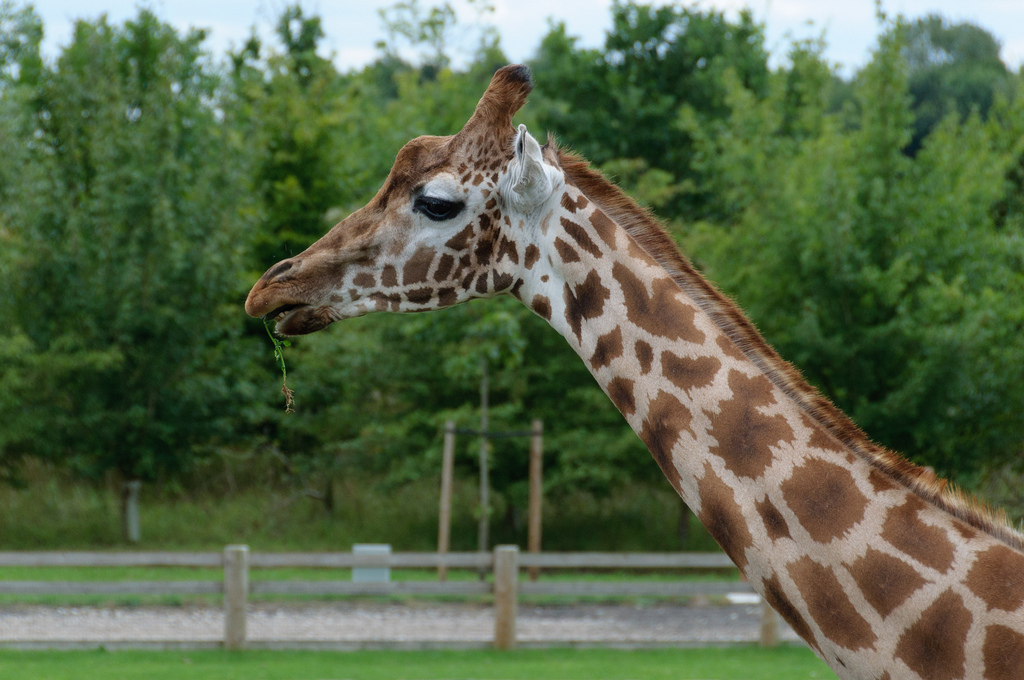giraffe: (234, 53, 994, 679)
